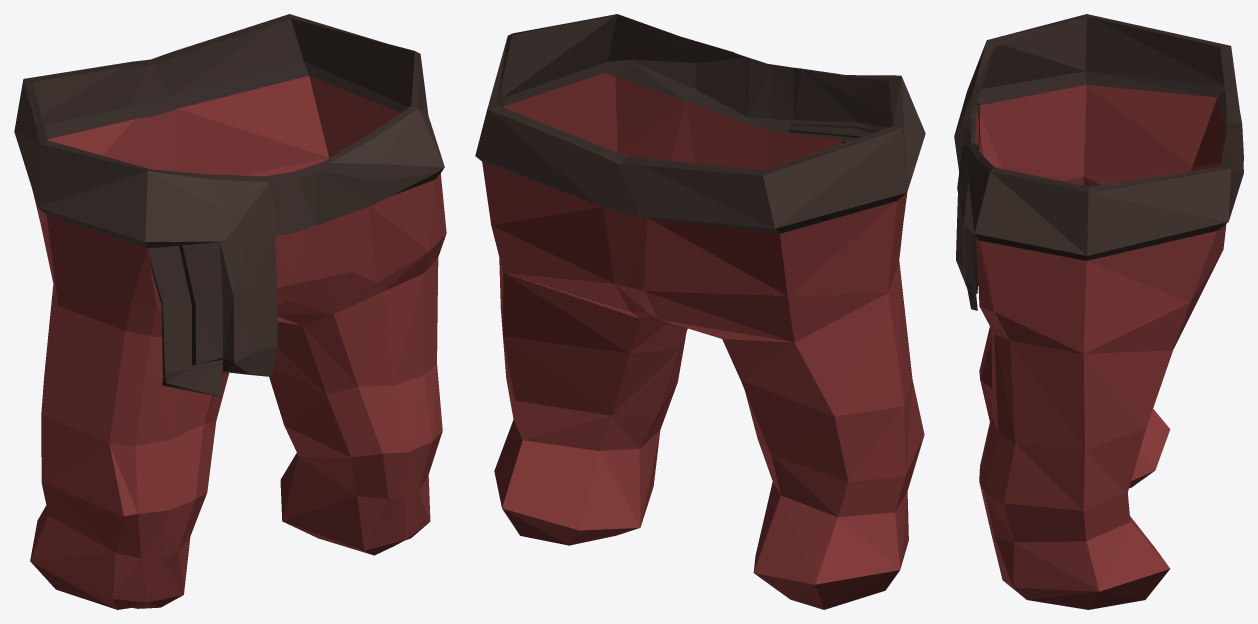
File: FemaleWarriorLegs.dae
The picture shows the model from 3 angles, left to right: view 1: azimuth 30°, elevation 25°; view 2: azimuth 150°, elevation 25°; view 3: azimuth 270°, elevation 25°; orthographic projection. The views are drawn at different scales.
Parts seen in each view (by area): view 1: FemalePants; view 2: FemalePants; view 3: FemalePants.
Part boxes in pixels (x1,y1,x2,y2): FemalePants: (14, 14, 446, 609); FemalePants: (475, 14, 925, 609); FemalePants: (954, 14, 1243, 609).
Bounding box in the file's own units: 2.55 × 1.7 × 2.84.
